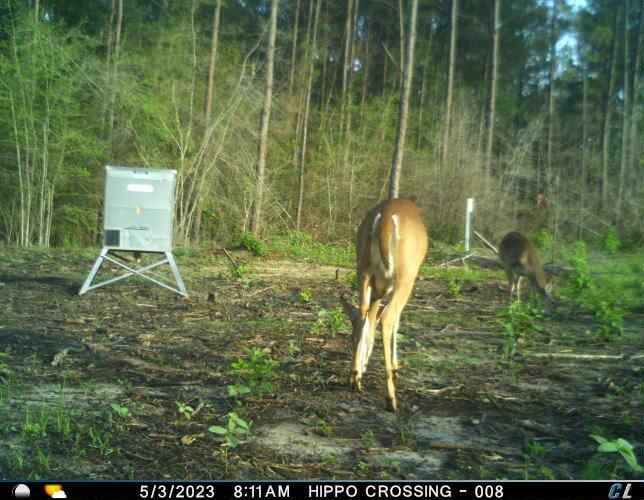Deer: (340, 194, 431, 414), (499, 229, 559, 319)
